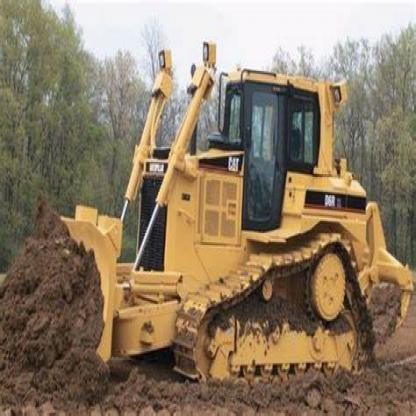bull_dozer/loader/grader: (49, 35, 414, 401)
